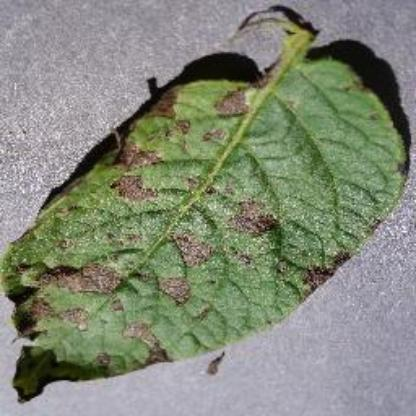Early-Blight: (3, 8, 414, 408)
